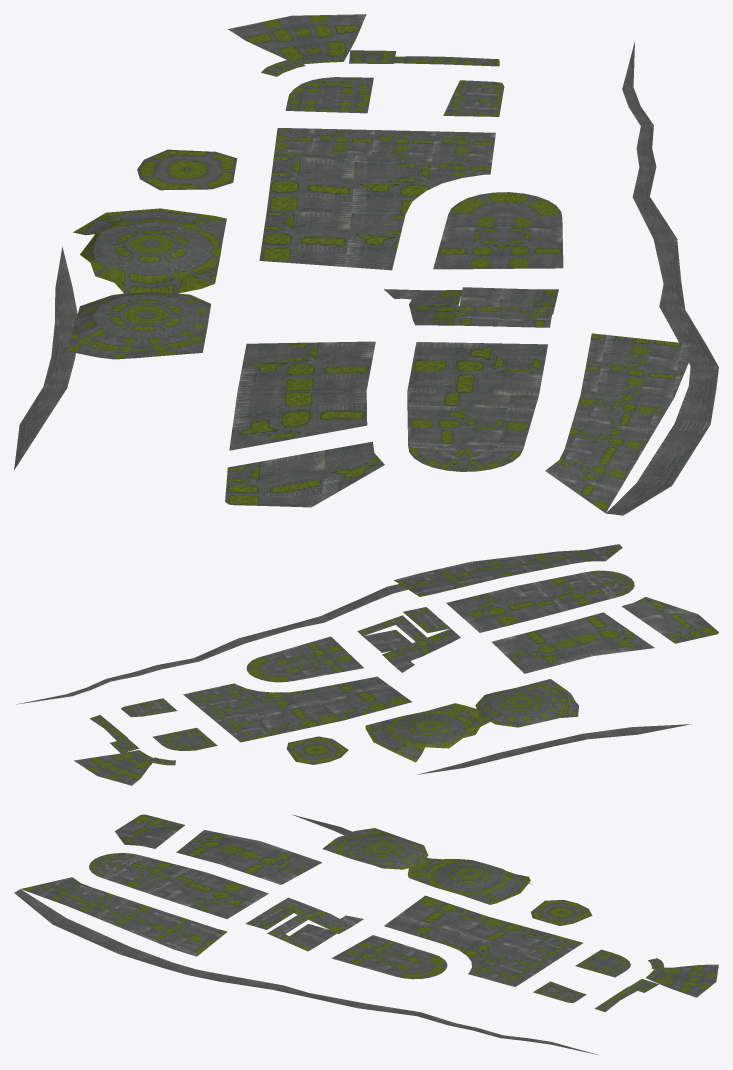
Rendered from City Ground.fbx.
The picture shows the model from 3 angles, top to bottom: view 1: azimuth 30°, elevation 25°; view 2: azimuth 150°, elevation 25°; view 3: azimuth 270°, elevation 25°; orthographic projection. The views are drawn at different scales.
Visible parts, largest first — view 1: City_Ground; view 2: City_Ground; view 3: City_Ground.
Part boxes in pixels (x1,y1,x2,y2): City_Ground: (14,14,718,515); City_Ground: (16,544,718,785); City_Ground: (14,814,718,1054).
Size of the model in its own units: 75242 by 4601 by 89869.
1 material, 1 textured.
